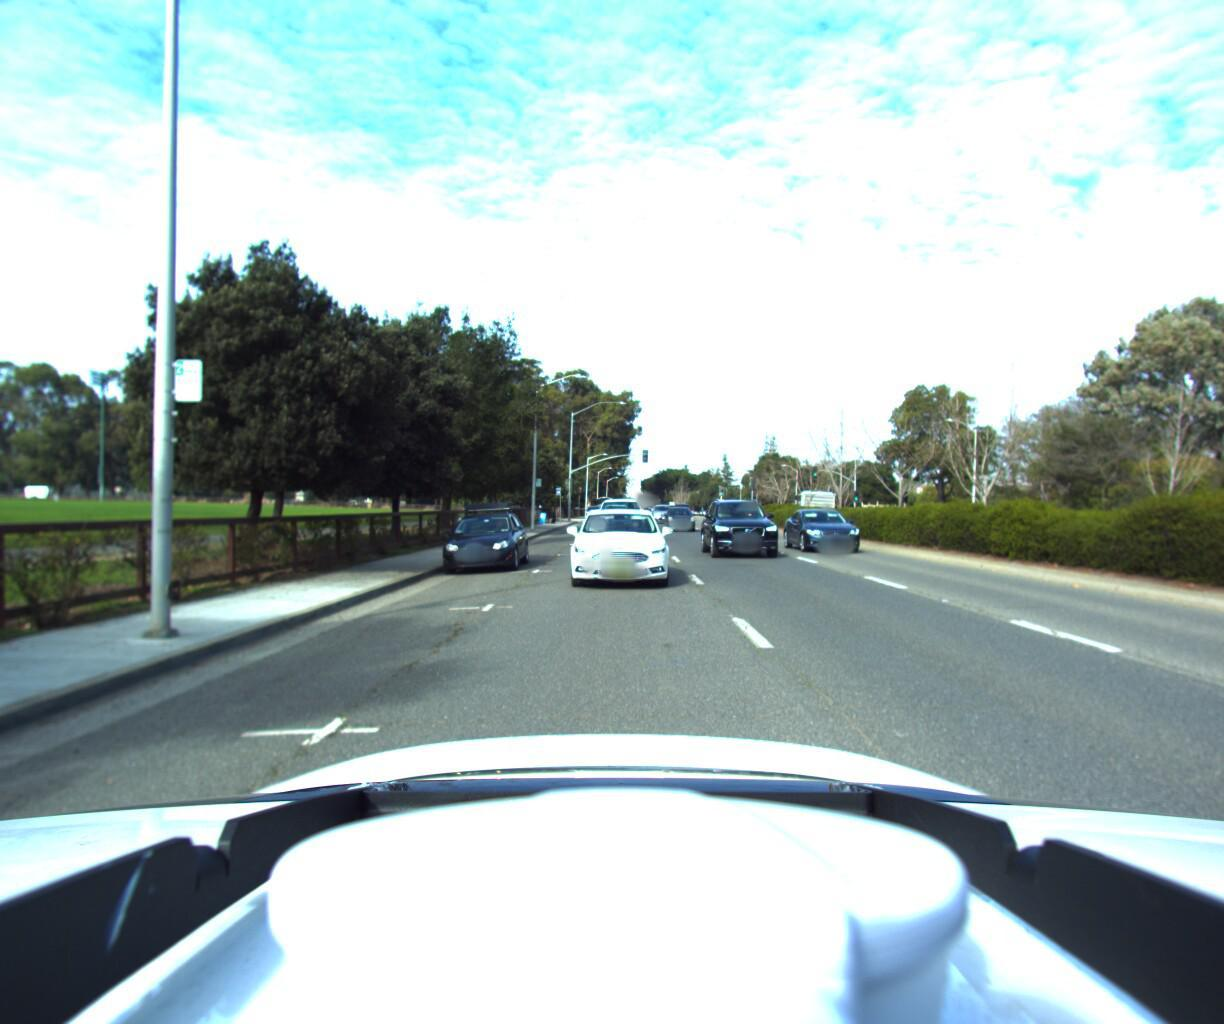car: (565, 501, 669, 591), (437, 499, 529, 578), (702, 493, 790, 562), (784, 503, 877, 554), (590, 494, 639, 538), (663, 502, 702, 533), (650, 505, 675, 524)
truck: (788, 474, 863, 528)
